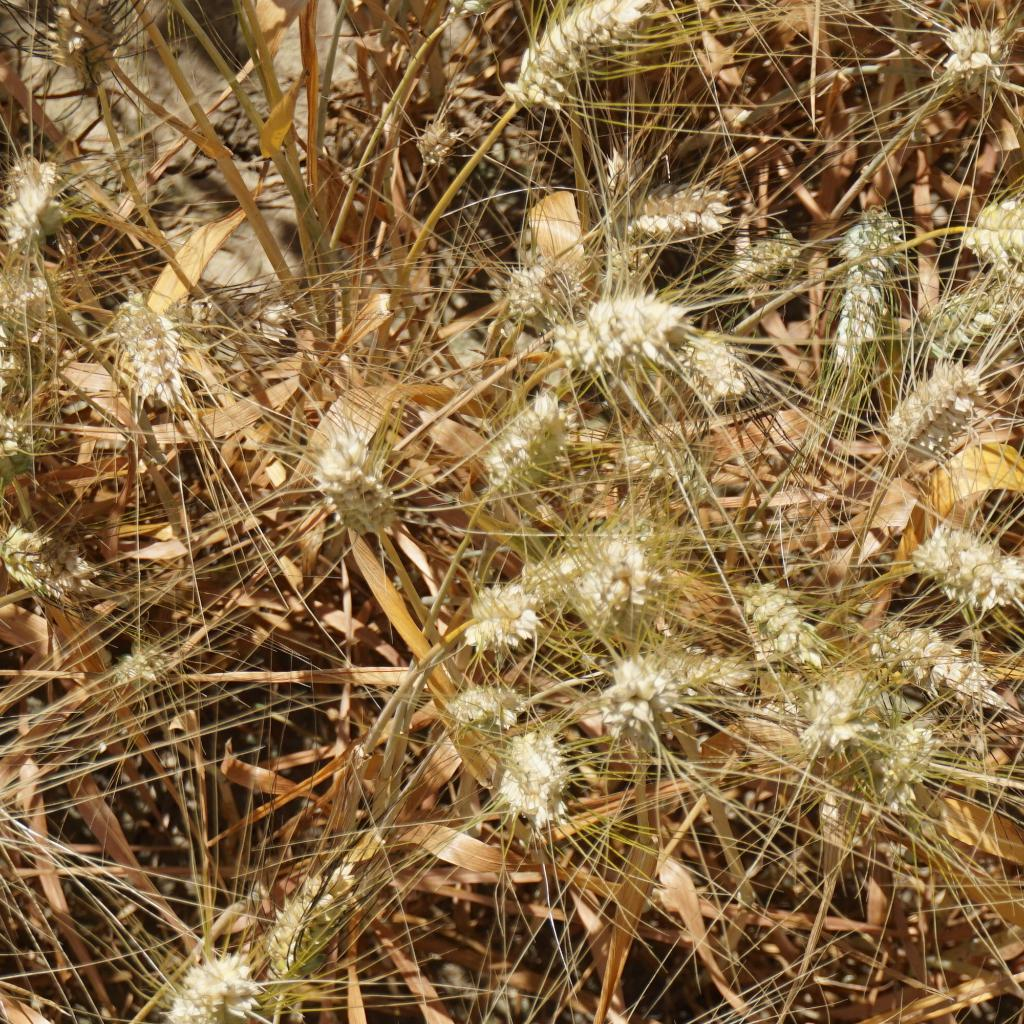0-0: (500, 0, 635, 115), (463, 384, 601, 492), (513, 534, 670, 625), (290, 433, 406, 542), (879, 358, 1004, 459), (888, 515, 1014, 603), (638, 623, 754, 713), (873, 614, 989, 701), (558, 278, 676, 363), (609, 159, 736, 236), (105, 283, 189, 396), (598, 411, 701, 502), (0, 510, 102, 598), (838, 198, 897, 349), (498, 722, 572, 838), (256, 868, 340, 969), (650, 325, 743, 404), (174, 280, 292, 342), (161, 953, 259, 1024), (52, 0, 123, 97), (737, 570, 813, 657), (857, 724, 941, 802), (0, 145, 66, 243), (937, 14, 1009, 100), (94, 633, 185, 695), (960, 177, 1024, 262), (605, 649, 654, 754), (454, 667, 522, 740), (0, 272, 63, 349), (721, 224, 801, 284), (798, 671, 862, 745), (916, 280, 993, 338), (473, 578, 531, 652), (0, 385, 45, 474), (507, 252, 573, 311), (415, 111, 463, 179)
